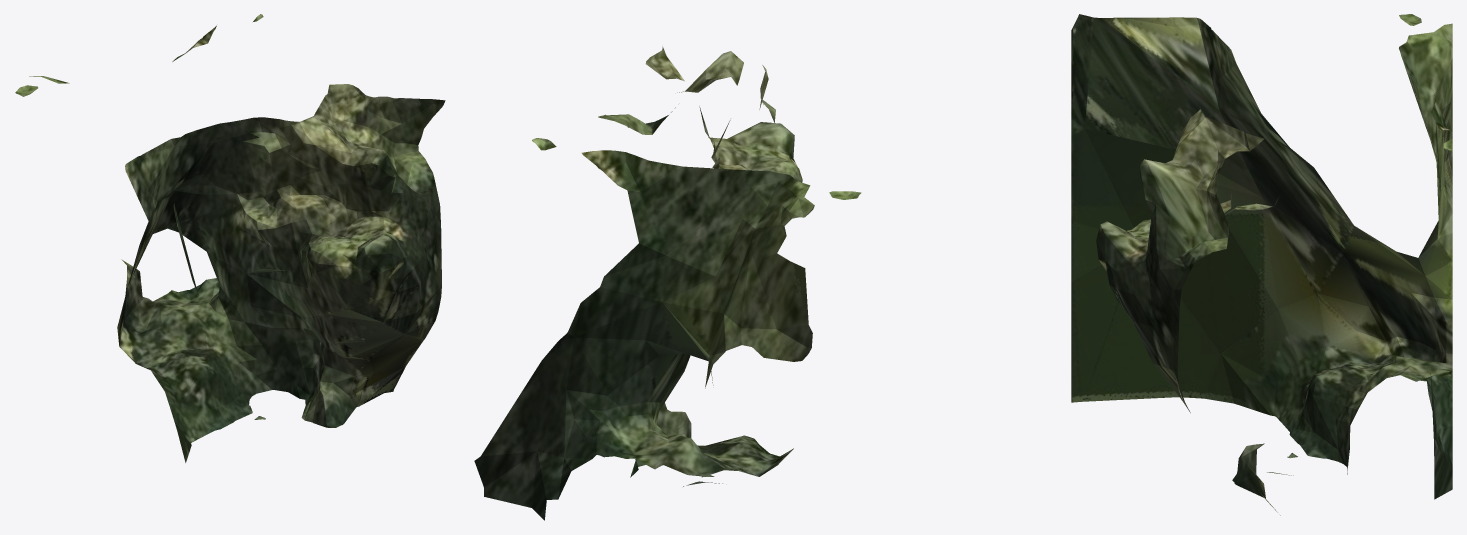
3 views of the same model, side by side, from view 1: azimuth 30°, elevation 25°; view 2: azimuth 150°, elevation 25°; view 3: azimuth 270°, elevation 25° (orthographic). The views are drawn at different scales.
Size of the model in its own units: 5.9 by 5.9 by 5.9.
6 materials, 6 textured.
